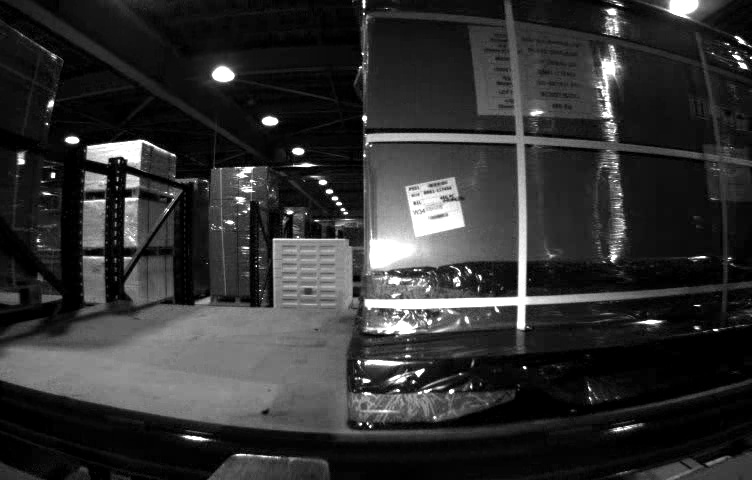True Barcode: (404, 174, 466, 236)
